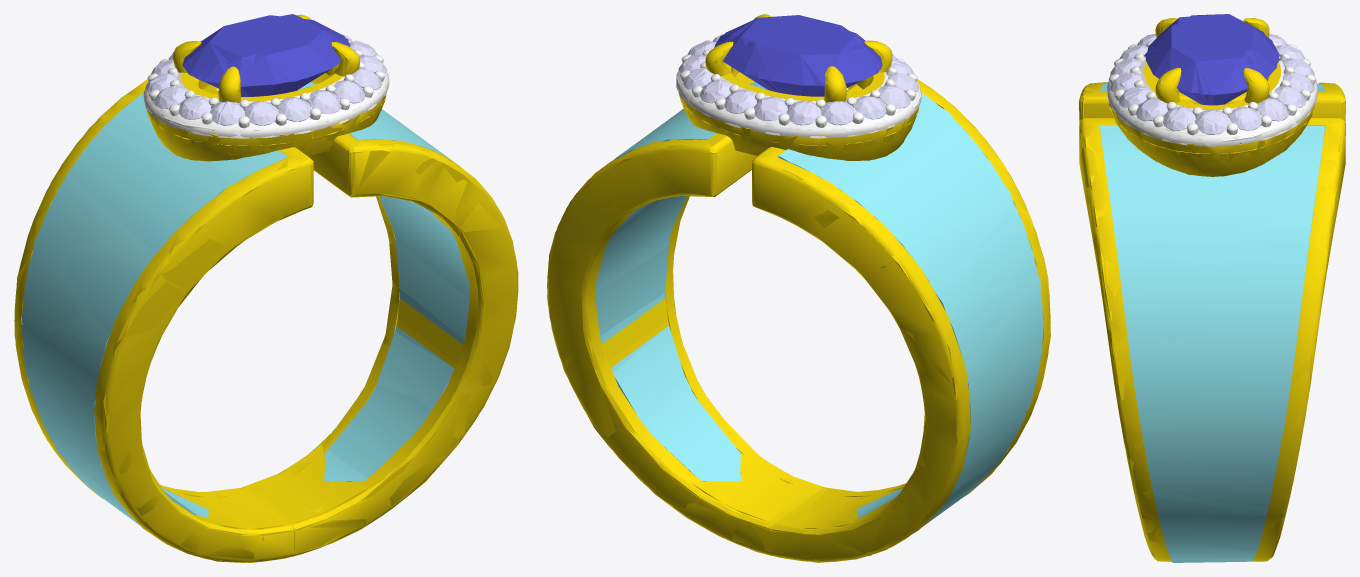
File: DLR-D000677781.glb
3 views of the same model, side by side, from view 1: azimuth 30°, elevation 25°; view 2: azimuth 150°, elevation 25°; view 3: azimuth 270°, elevation 25° (orthographic).
Parts seen in each view (by area): view 1: highPolyMesh, lowPolyMesh; view 2: highPolyMesh, lowPolyMesh; view 3: highPolyMesh, lowPolyMesh.
Boxes of the visible parts, left/top/right/bottom form: highPolyMesh: left=14, top=15, right=518, bottom=562; lowPolyMesh: left=14, top=14, right=518, bottom=562; highPolyMesh: left=547, top=14, right=1050, bottom=562; lowPolyMesh: left=547, top=14, right=1050, bottom=562; highPolyMesh: left=1079, top=14, right=1345, bottom=561; lowPolyMesh: left=1079, top=14, right=1345, bottom=562.
Size of the model in its own units: 0.0218 by 0.0251 by 0.0121.
